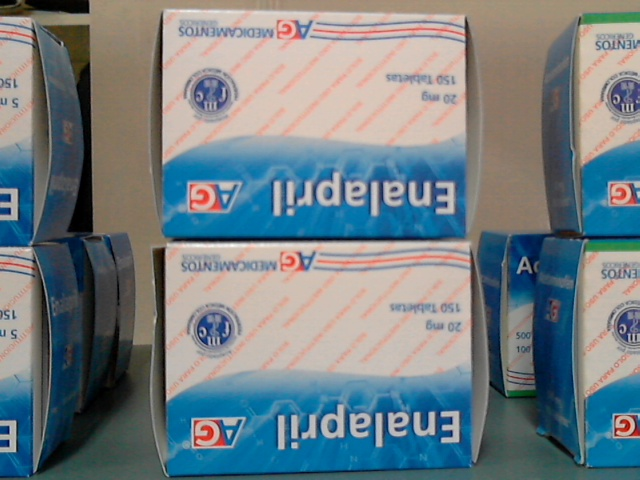AG: (167, 246, 473, 475), (164, 8, 466, 237)
